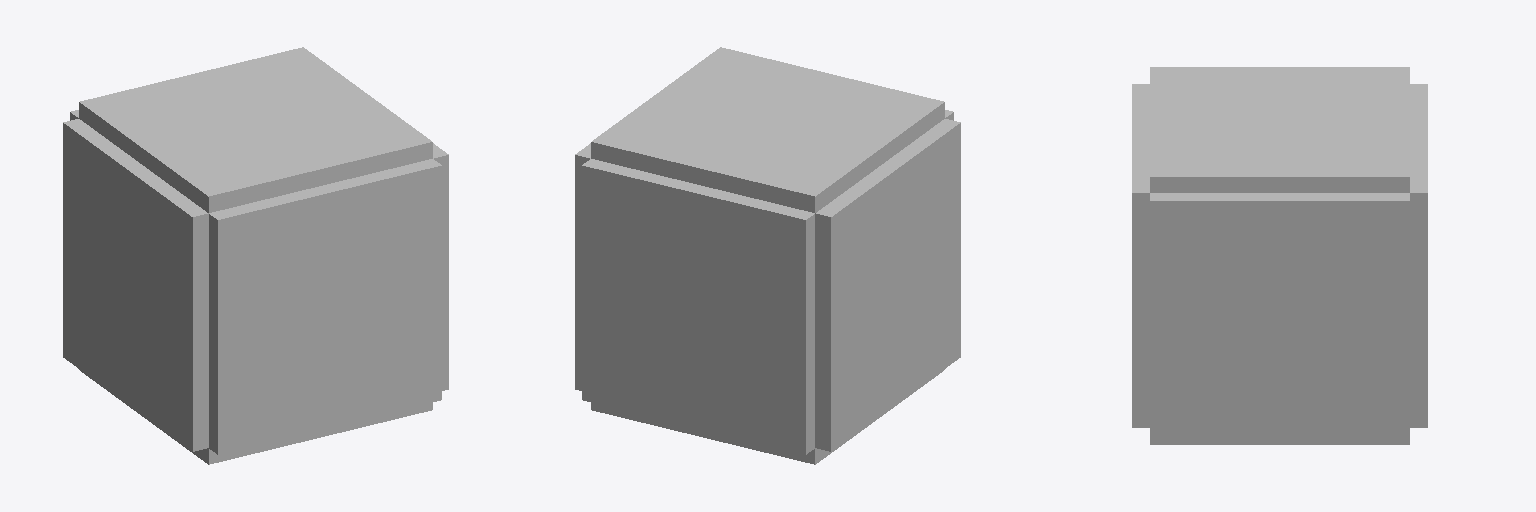
The model's file is blocoPadrao.obj.
3 renders of one model, left to right at view 1: azimuth 30°, elevation 25°; view 2: azimuth 150°, elevation 25°; view 3: azimuth 270°, elevation 25°, orthographic.
Visible parts, largest first — view 1: ObjObject.001; view 2: ObjObject.001; view 3: ObjObject.001.
Boxes of the visible parts, x1,y1,x2,y2 form: ObjObject.001: [63, 47, 448, 464]; ObjObject.001: [575, 47, 960, 464]; ObjObject.001: [1132, 67, 1427, 444].
Size of the model in its own units: 1 by 1 by 1.